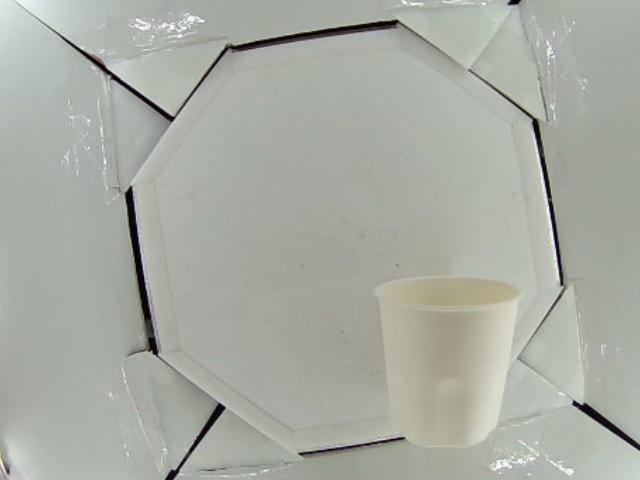Cup: (374, 272, 522, 446)
